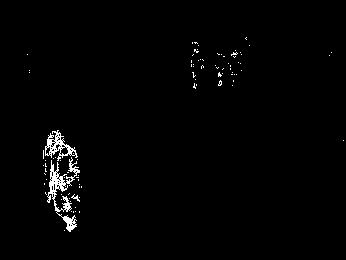person: (43, 128, 83, 236)
